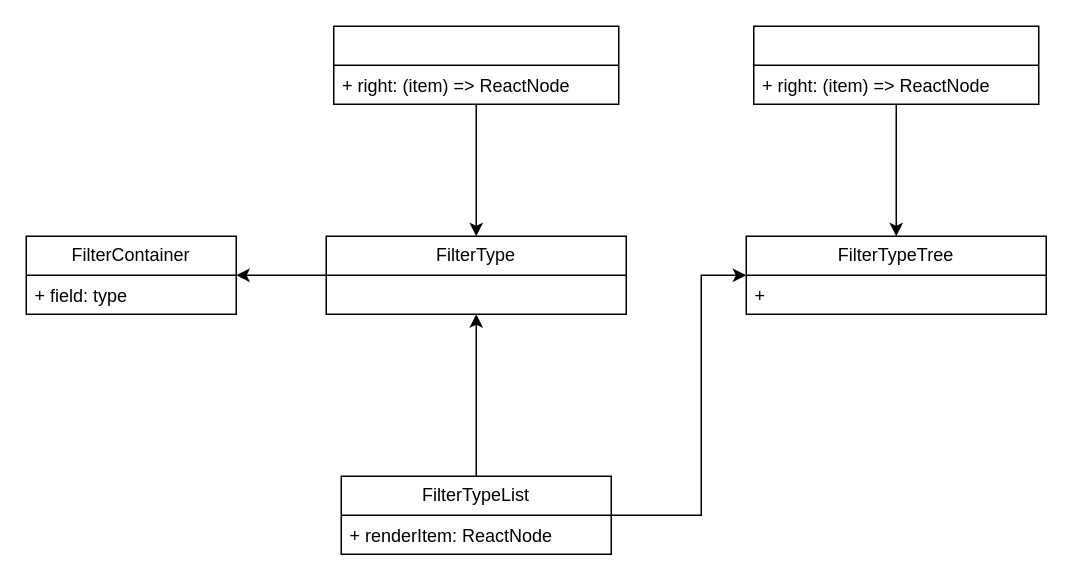
The diagram is 1073 pixels wide and 585 high, and some of its shapes have lost their labels. The box of each missing label's shape, as (x1, y1, x2, y2) in pixels:
FilterTypeItem: (332, 25, 619, 104)
FilterTypeTreeItem: (752, 25, 1039, 104)
